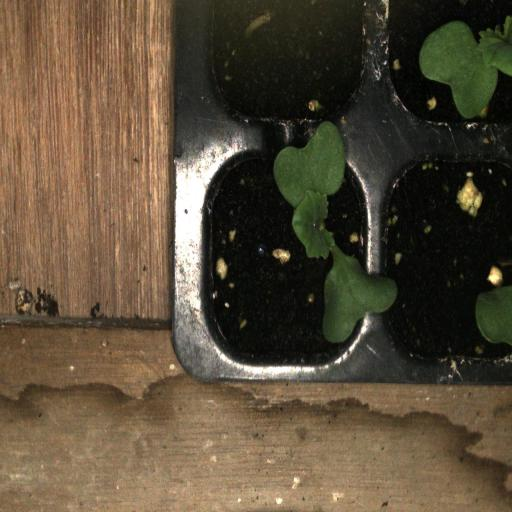noseedling: (195, 0, 379, 137)
seedling: (193, 140, 381, 376), (377, 1, 512, 141)
